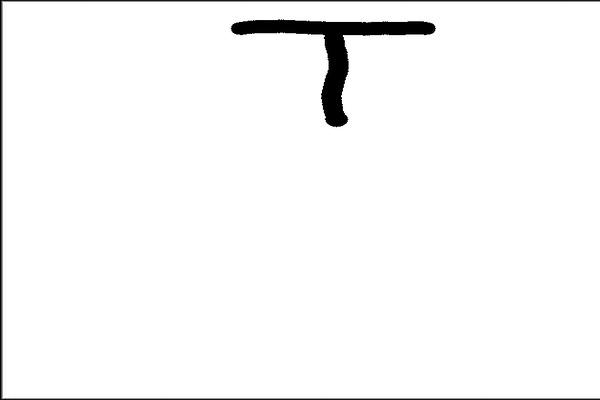T: (226, 10, 441, 129)
